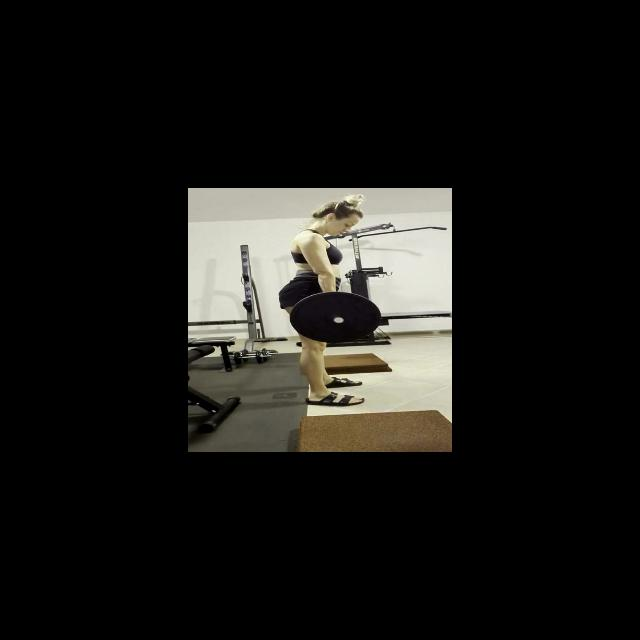barbell: (287, 289, 384, 344)
